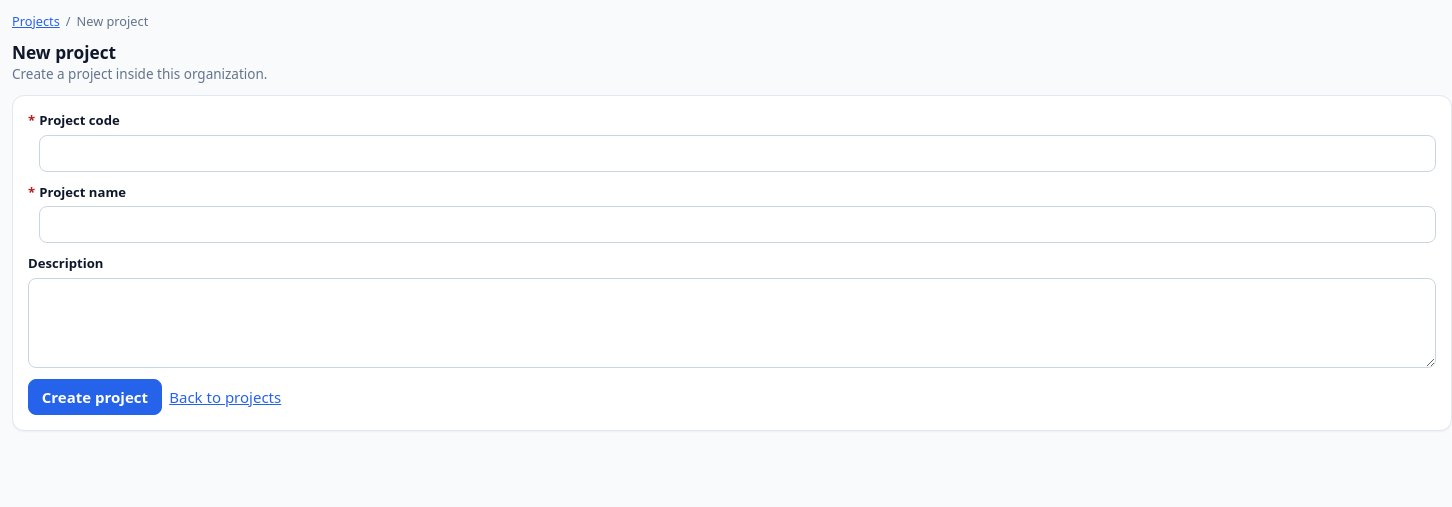
Scenario: project screens › keeps an empty create form off the API
Click the button "Create project".
click(95, 397)  # box [28,379,162,415]
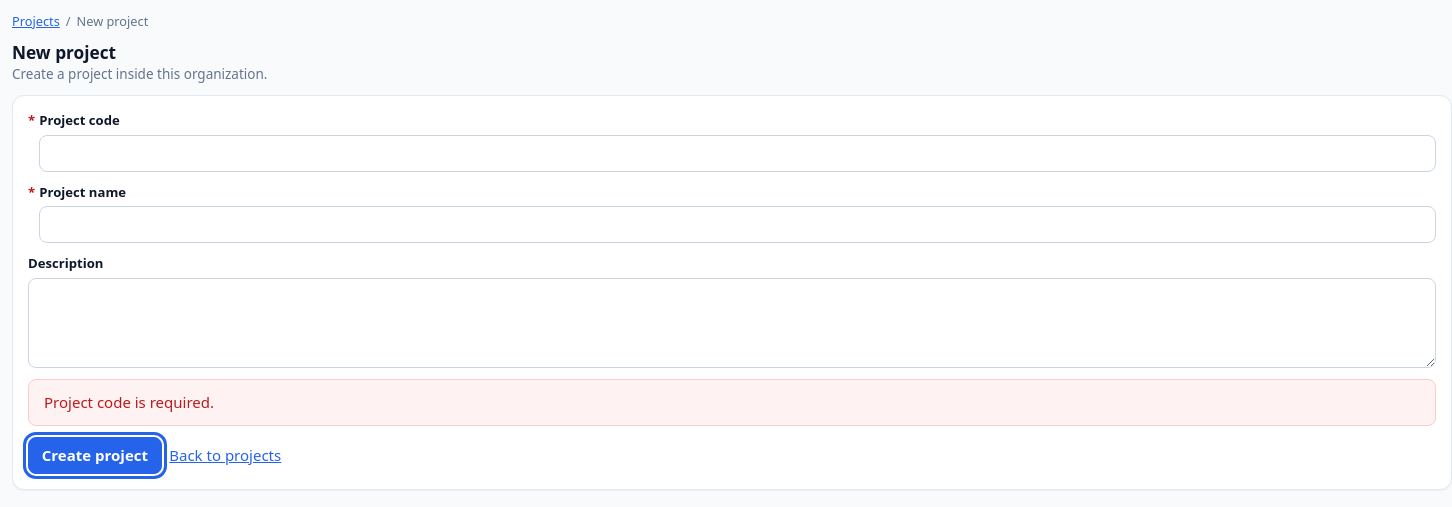
Expected: the message reads "Project code is required.", [44,392,214,412]
